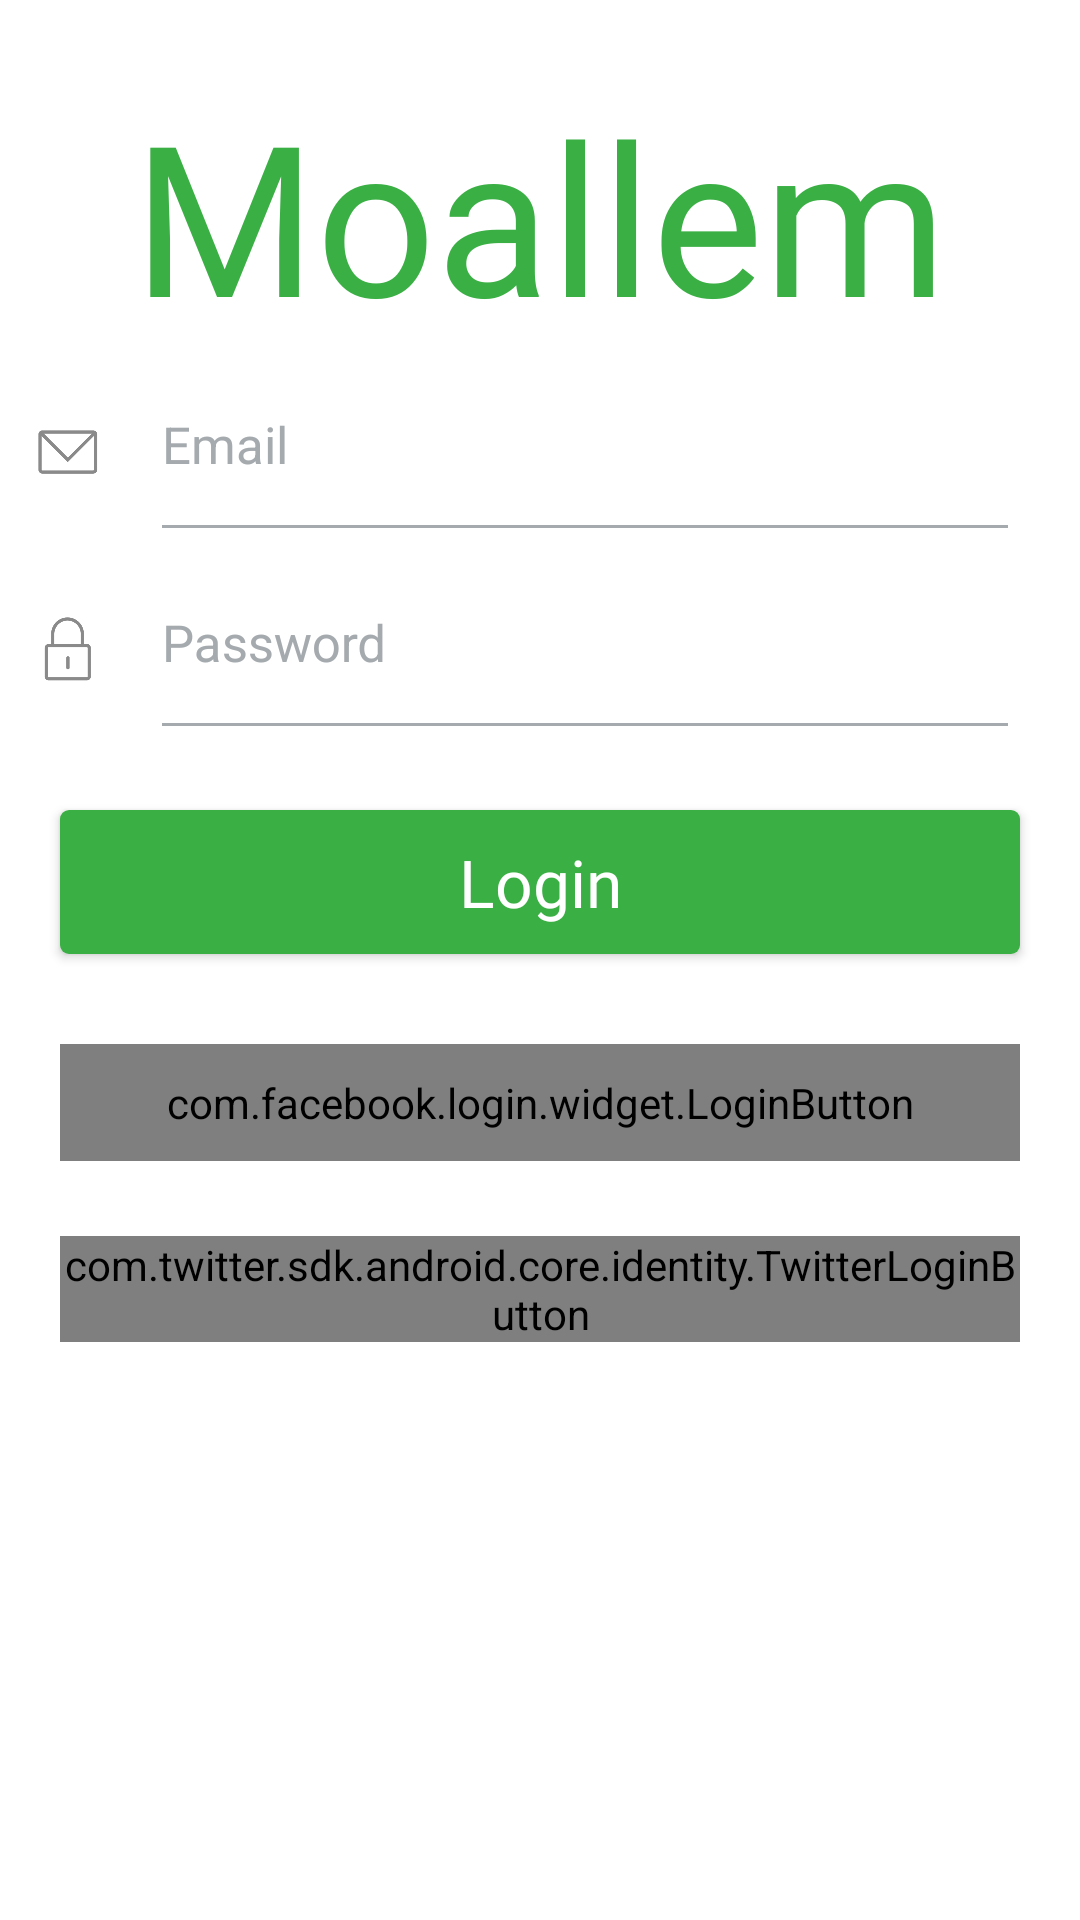

Point at icon controls on the screen. Image size 1080px x 1920px, points as point (x, y).
lockicon: point (68, 649)
